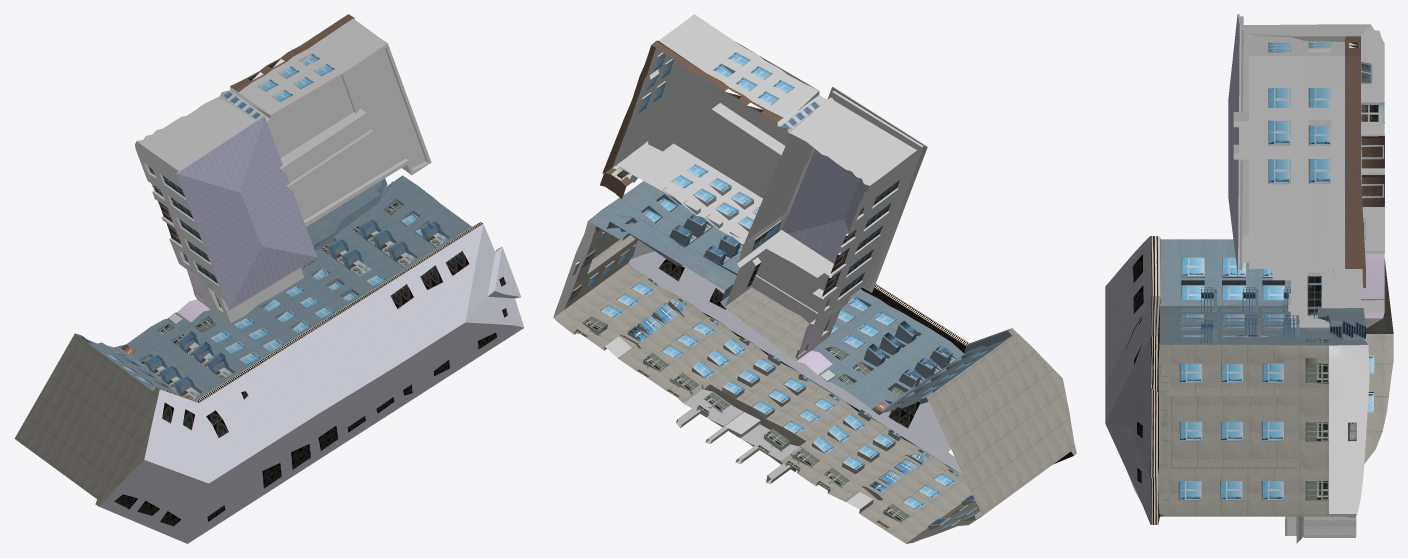
Rendered from Tp4-origo.obj.
3 views of the same model, side by side, from view 1: azimuth 30°, elevation 25°; view 2: azimuth 150°, elevation 25°; view 3: azimuth 270°, elevation 25° (orthographic). The views are drawn at different scales.
Visible parts, largest first — view 1: polySurface1; view 2: polySurface1; view 3: polySurface1.
Part boxes in pixels (x1,y1,x2,y2): polySurface1: (14, 14, 524, 543); polySurface1: (553, 14, 1076, 543); polySurface1: (1105, 14, 1393, 543).
Bounding box in the file's own units: 56.56 × 53 × 23.6.
